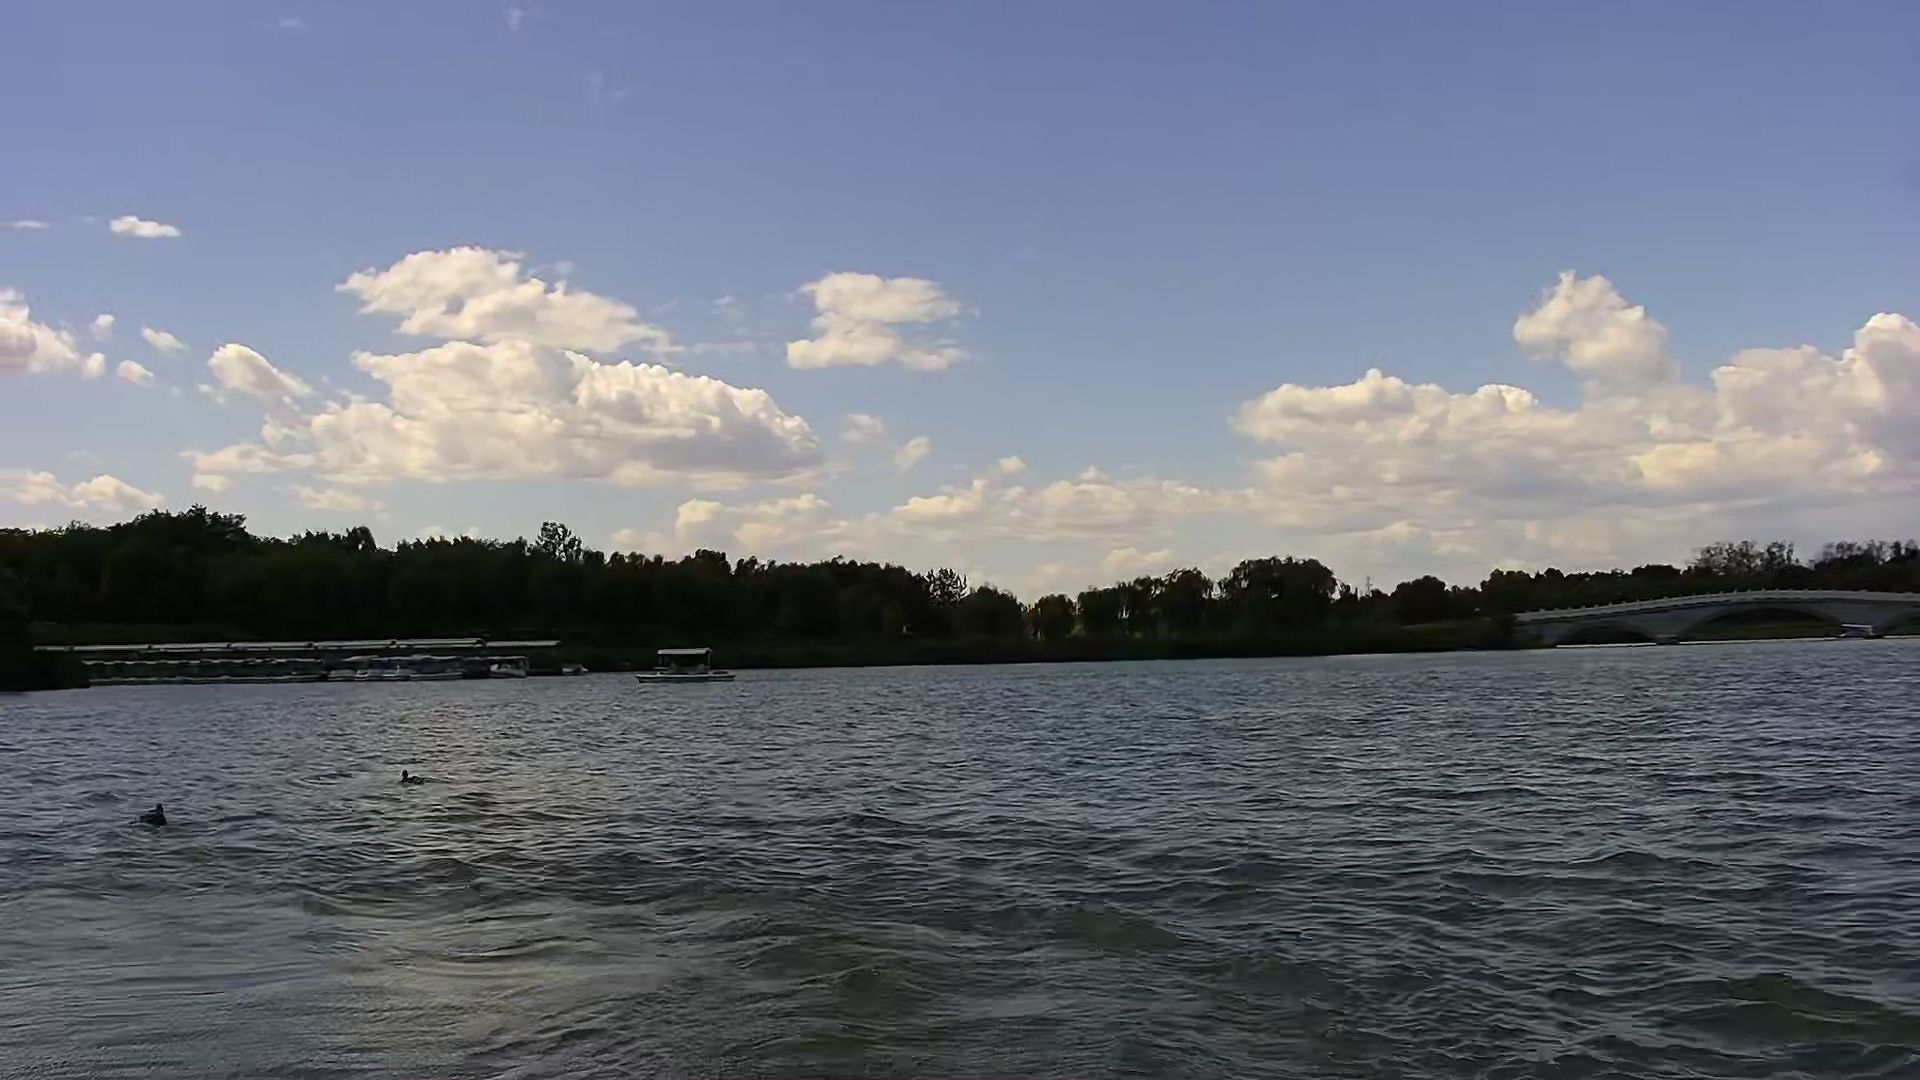animal: (131, 800, 179, 832), (390, 766, 434, 789)
boat: (640, 650, 732, 686)
bridge: (1519, 588, 1920, 650)
harbor: (1, 634, 560, 682)
